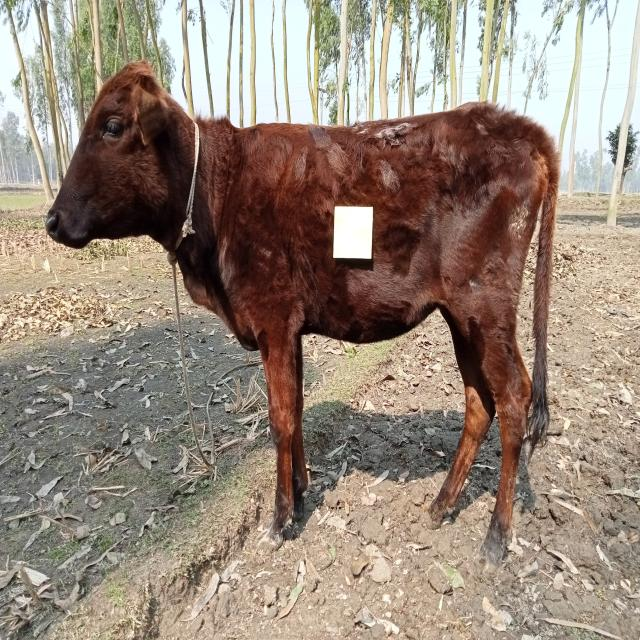badan_sapi: (254, 118, 546, 348)
sapi: (34, 51, 564, 577)
